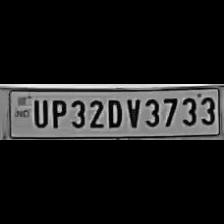2: (86, 96, 104, 130)
3: (68, 96, 86, 128), (198, 94, 216, 126), (141, 96, 158, 128), (180, 95, 196, 127)
7: (160, 96, 178, 128)
D: (104, 96, 122, 130)
P: (47, 97, 66, 129)
U: (30, 97, 48, 129)
V: (123, 96, 141, 128)
